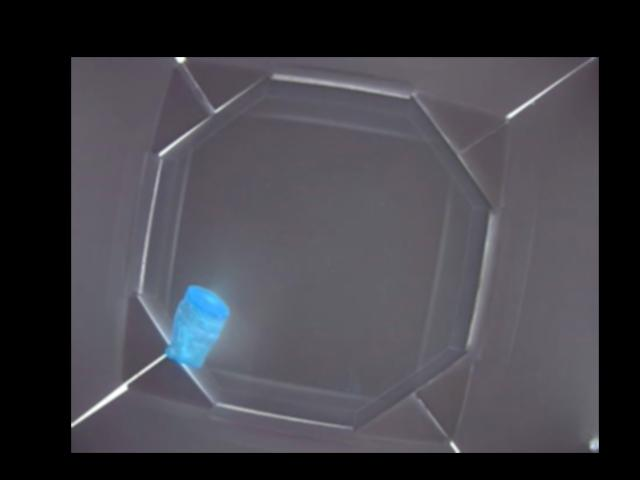Carrot: (163, 284, 227, 367)
